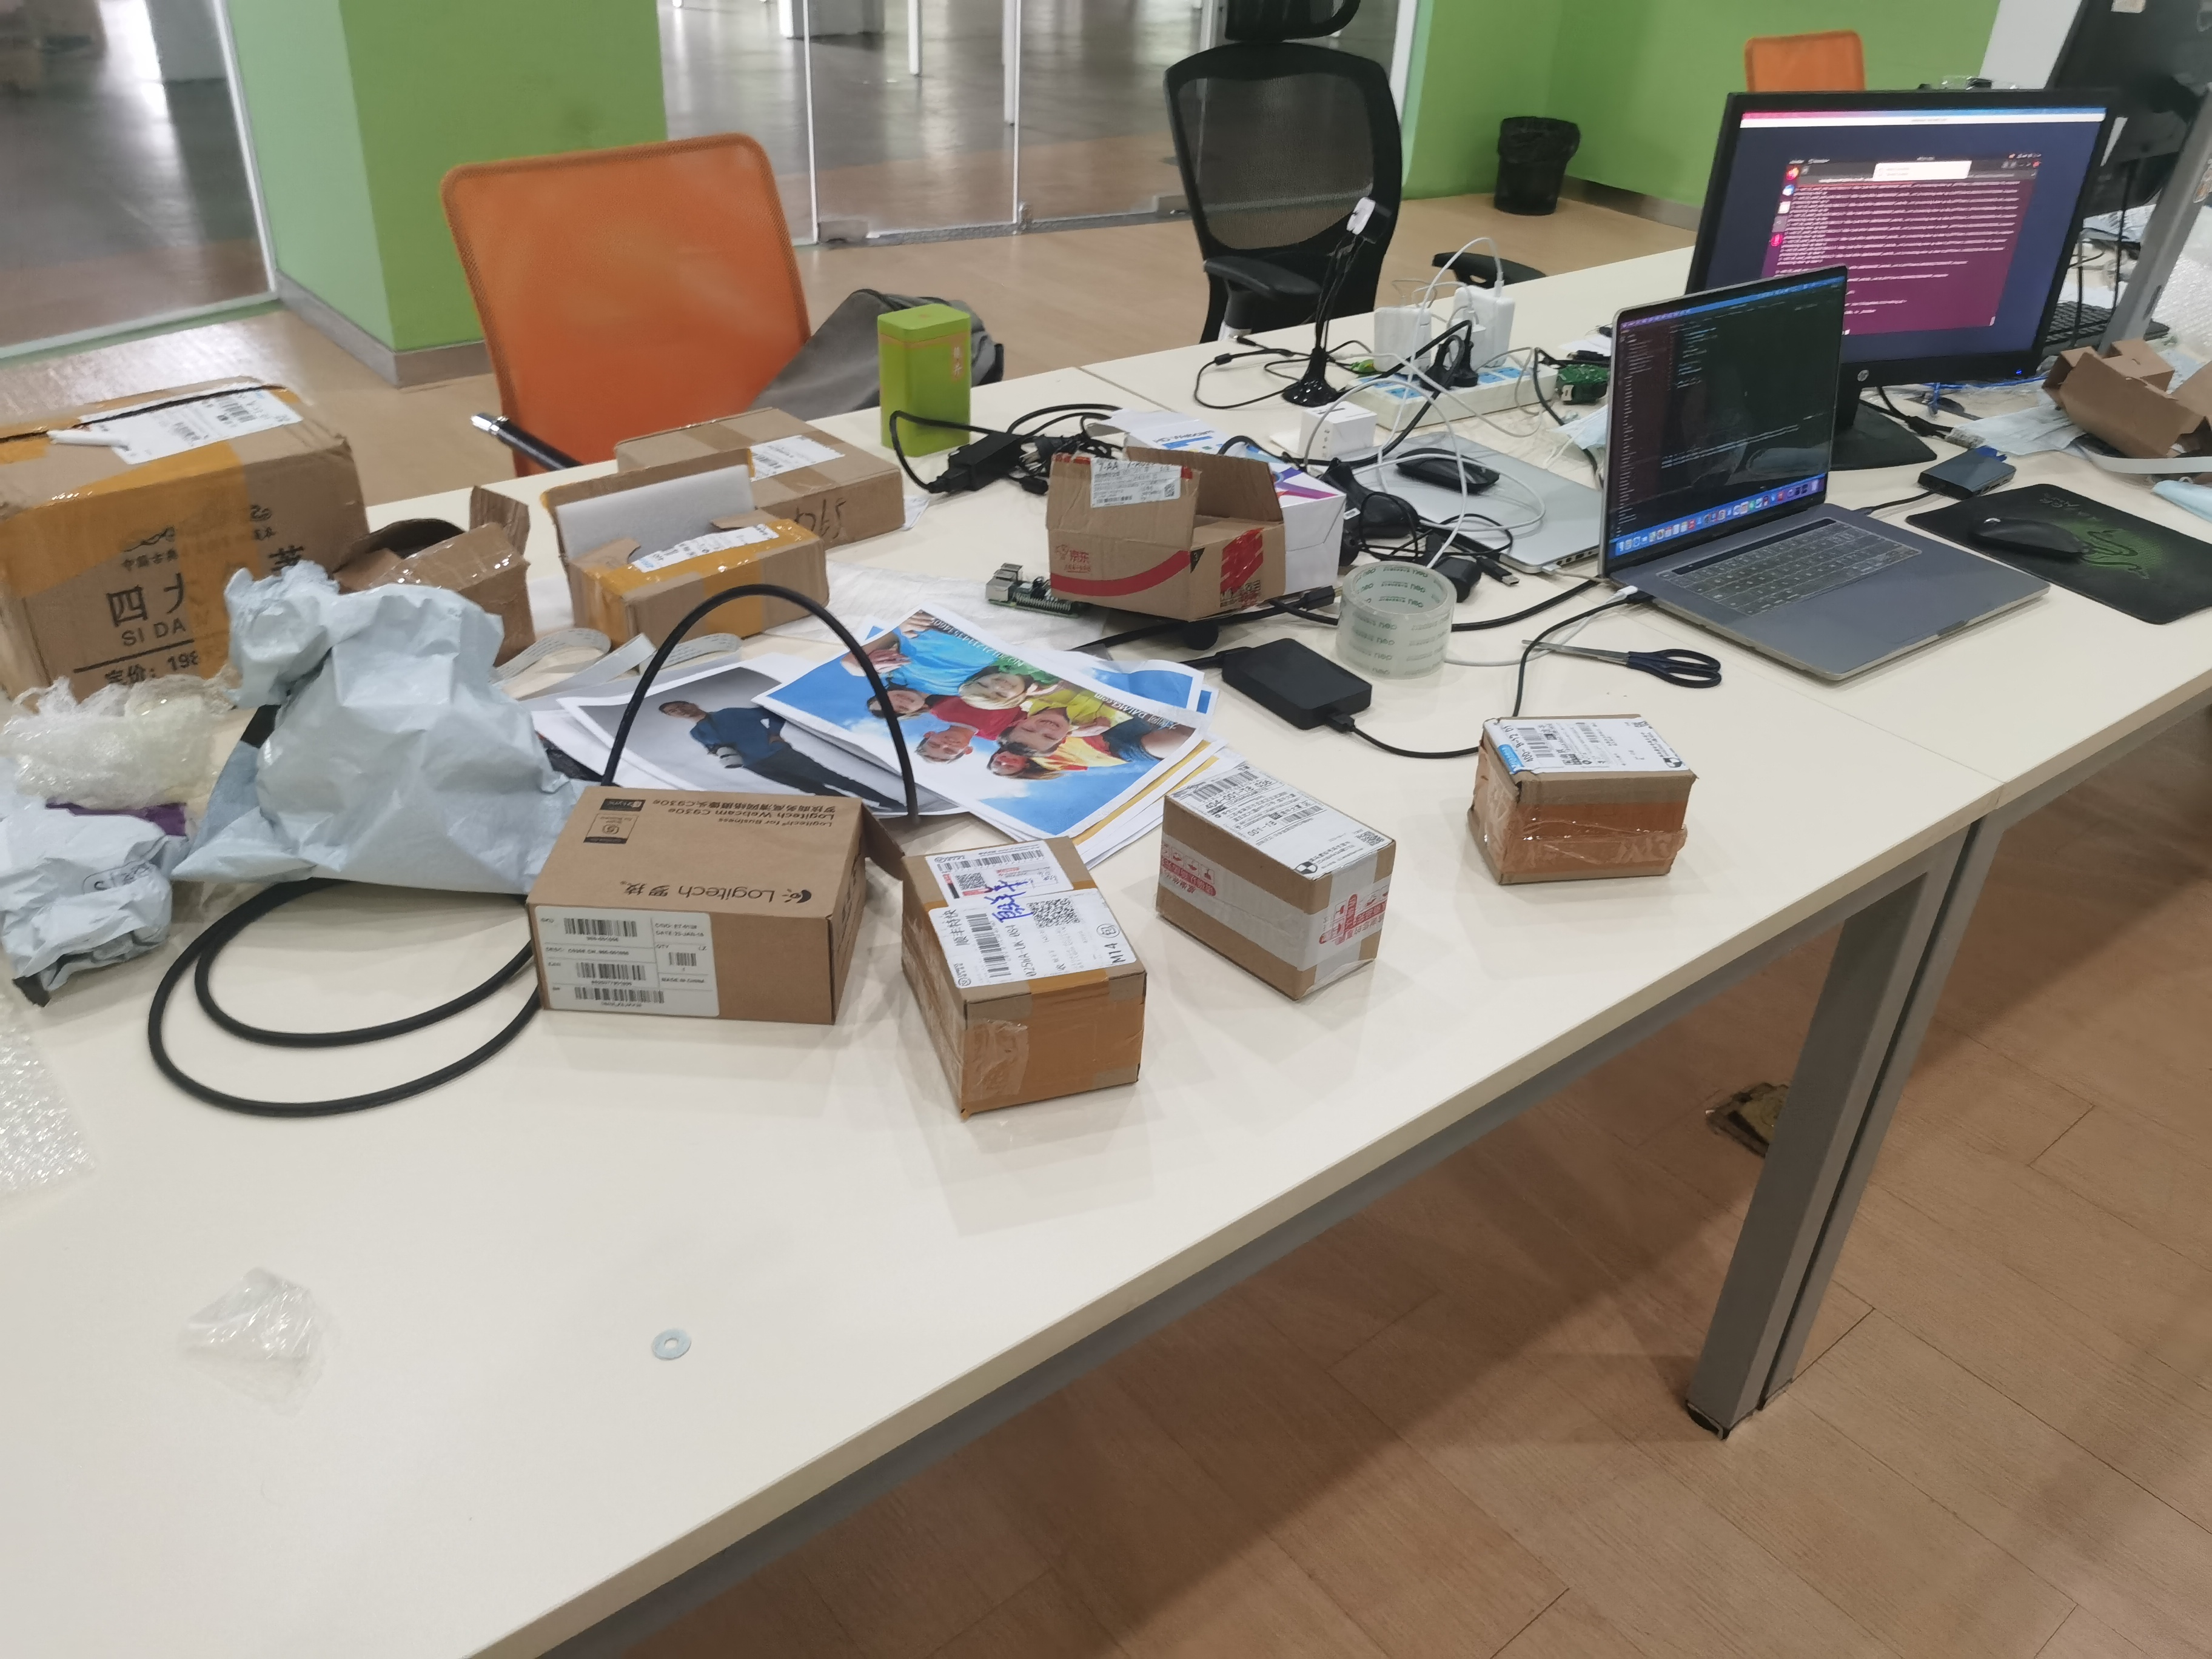box: (0, 328, 362, 666), (509, 769, 880, 1056), (895, 845, 1150, 1122), (1141, 760, 1420, 1007), (1022, 420, 1310, 627), (540, 474, 833, 666), (1458, 706, 1709, 904), (604, 411, 921, 568)
